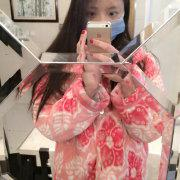WRONG: (85, 2, 128, 45)
